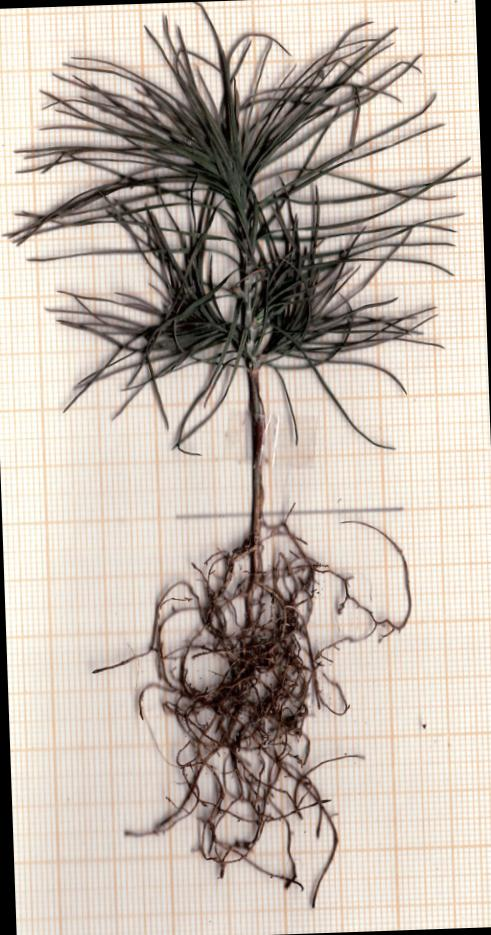flower: (11, 2, 463, 449)
root: (138, 510, 411, 906)
stem: (249, 368, 265, 537)
